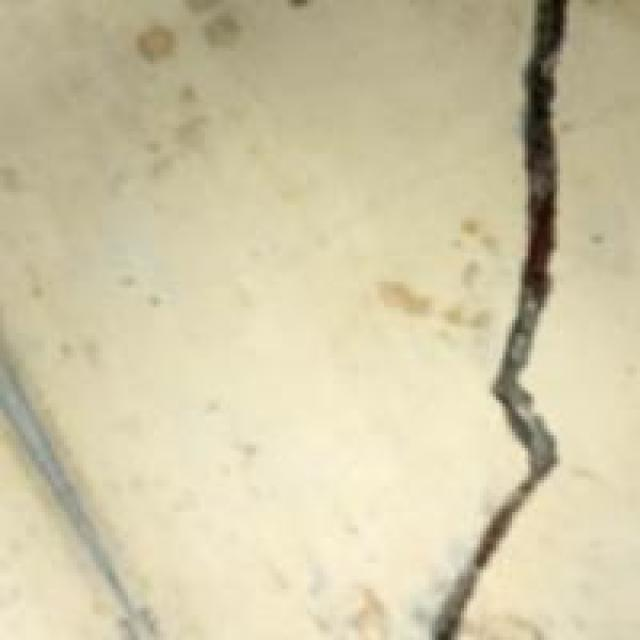crack: (400, 0, 605, 637)
